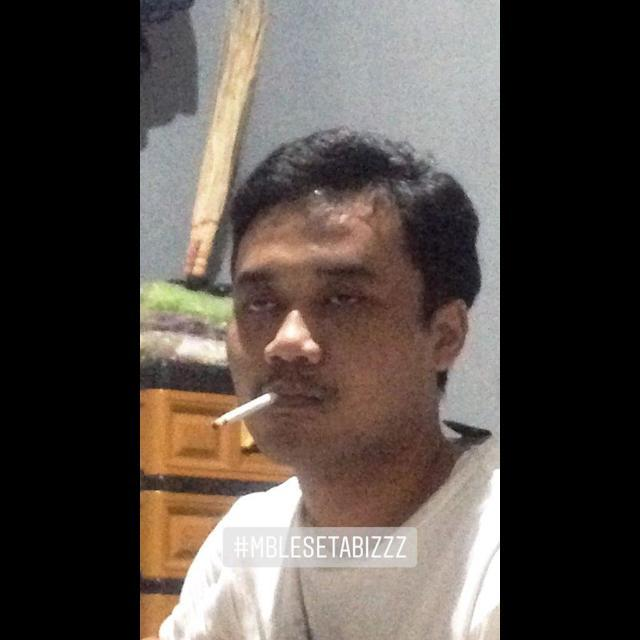rokok: (213, 393, 279, 437)
